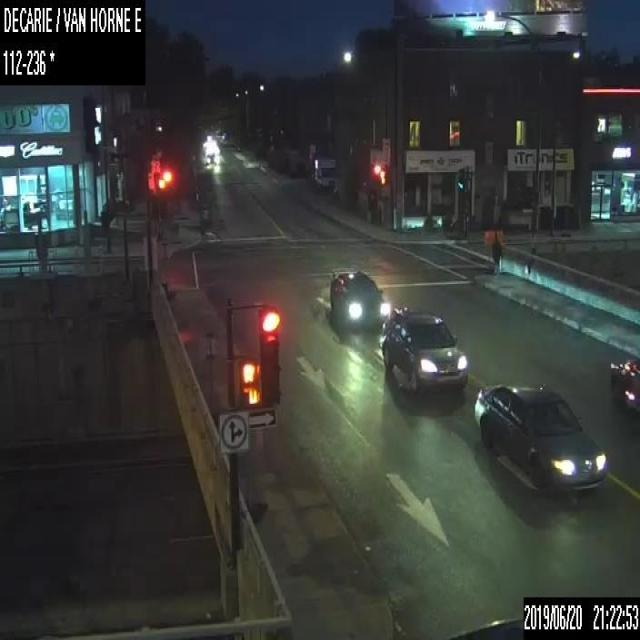construction: (243, 426, 268, 526), (202, 331, 219, 426), (491, 228, 504, 274), (482, 228, 492, 272)
pedestrian: (492, 232, 503, 275)
vehicle: (474, 382, 607, 493), (380, 306, 467, 394), (328, 268, 389, 333), (608, 360, 639, 417), (447, 616, 522, 639), (314, 156, 335, 192), (206, 152, 217, 165)
